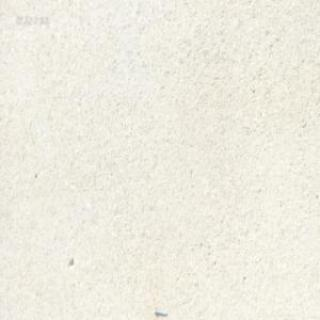Nailtrack_idkeyframe: (153, 307, 167, 316)
